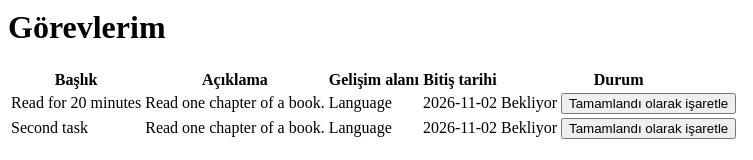
Test: ChildTasksPage › disables the buttons while a task is being saved
Click the button with aria-label "Read for 20 minutes görevini tamamlandı olarak işaretle" at (649, 103), box [561,93,736,114]
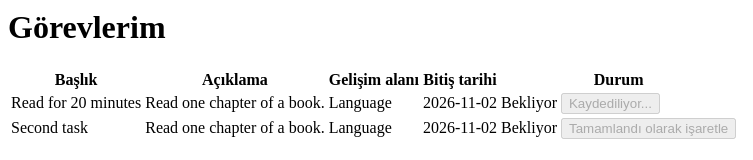
Check: the button with aria-label "Second task görevini tamamlandı olarak işaretle" is shown, box [561,118,736,139]
Check: the button "Kaydediliyor..." is shown, box [561,93,660,114]
